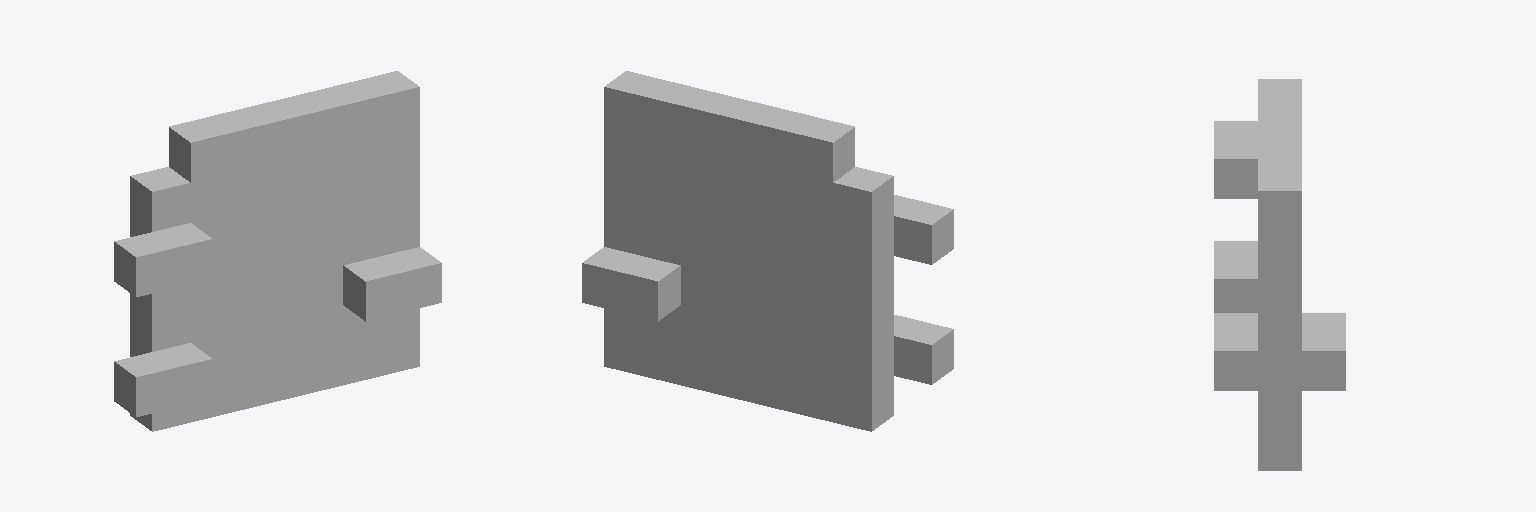
File: obj_door.obj
The picture shows the model from 3 angles: view 1: azimuth 30°, elevation 25°; view 2: azimuth 150°, elevation 25°; view 3: azimuth 270°, elevation 25°; orthographic projection.
Visible parts, largest first — view 1: obj_door; view 2: obj_door; view 3: obj_door.
Boxes of the visible parts, box(x1,y1,x2,y2) form: obj_door: box(114, 71, 441, 431); obj_door: box(582, 71, 953, 431); obj_door: box(1214, 79, 1345, 470).
Size of the model in its own units: 8 by 7 by 3.